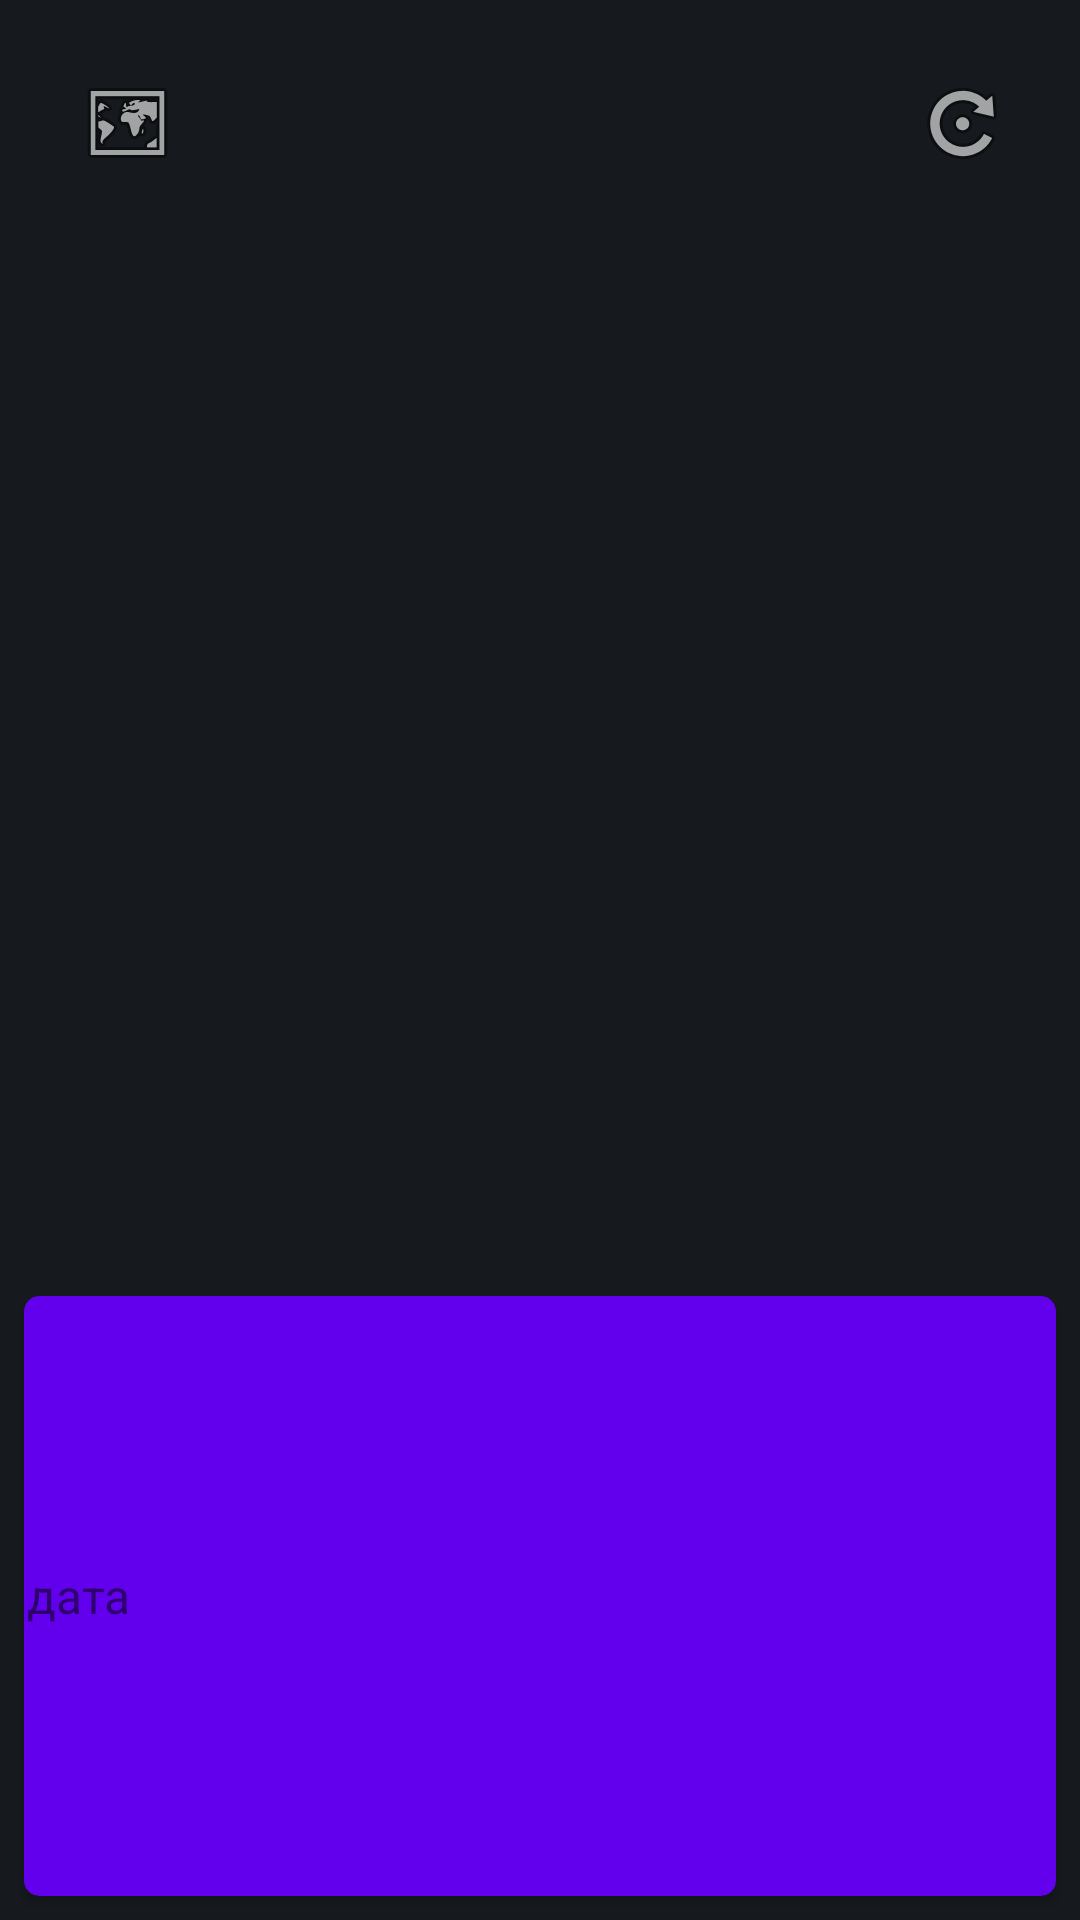

Where to tap for icons on this 1080 x 1920 app screen, as (x,y):
mapmode: (127,123)
rotate: (962,123)
